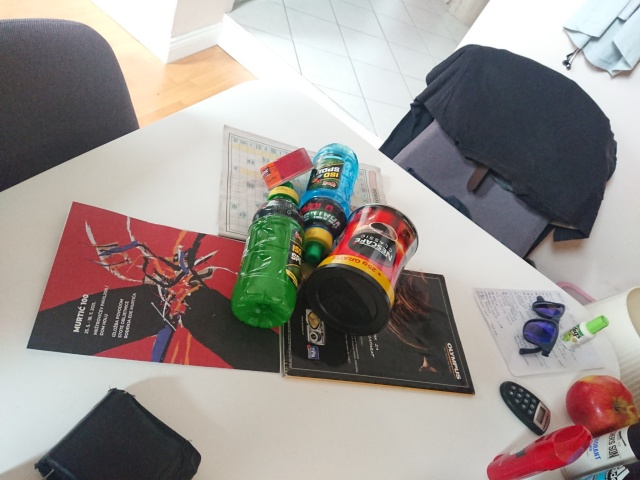Gavrilovic Pork Liver Pate 100g: (256, 146, 316, 193)
Nescafe Classic 225g: (302, 201, 422, 338)
Vindi Iso Sport Forest Strawberries 500mL: (296, 141, 361, 267)
Vindi Iso Sport Lemon-Grapefruit 500mL: (229, 182, 308, 335)
